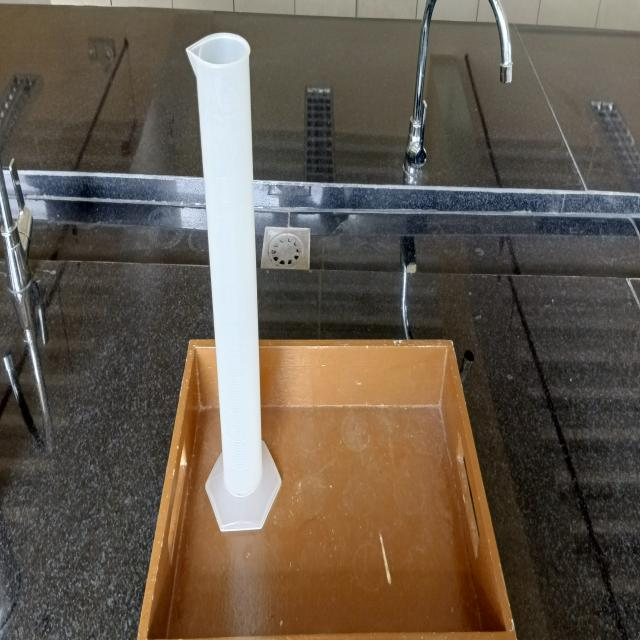graduated_cylinder: (171, 17, 286, 544)
